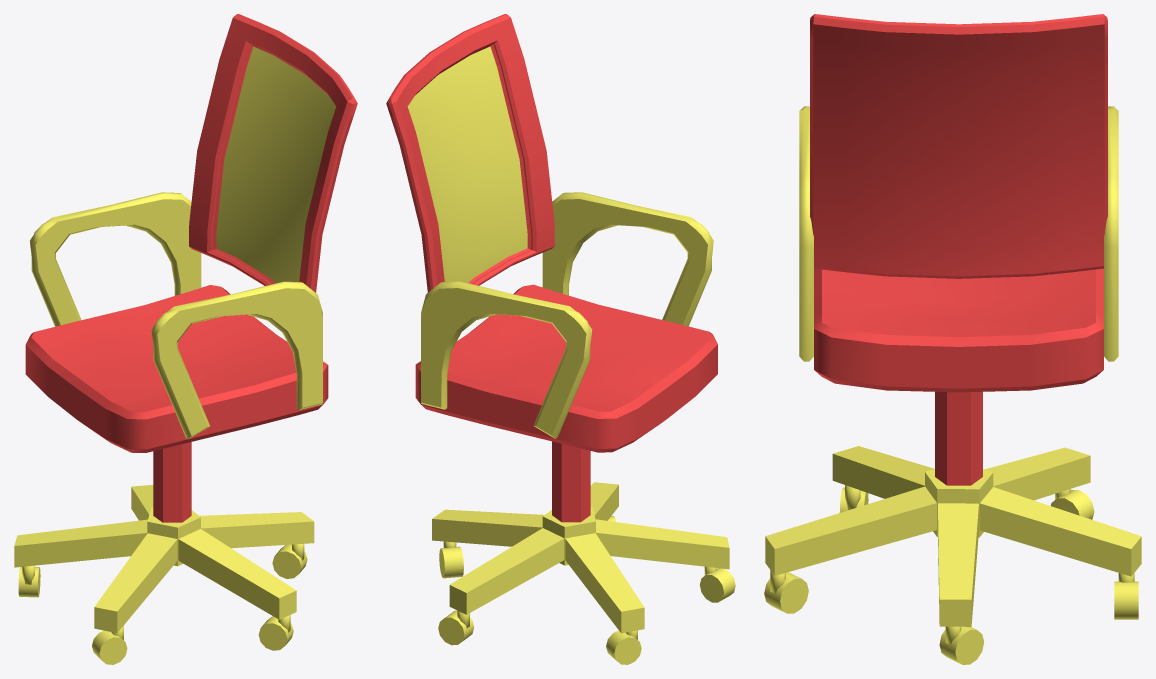
The model's file is SM_Chair.fbx.
3 renders of one model, left to right at view 1: azimuth 30°, elevation 25°; view 2: azimuth 150°, elevation 25°; view 3: azimuth 270°, elevation 25°, orthographic. The views are drawn at different scales.
Visible parts, largest first — view 1: SM_Chair; view 2: SM_Chair; view 3: SM_Chair.
Boxes of the visible parts, left/top/right/bottom form: SM_Chair: left=14, top=14, right=357, bottom=664; SM_Chair: left=386, top=14, right=735, bottom=664; SM_Chair: left=764, top=14, right=1141, bottom=664.
Bounding box in the file's own units: 62.17 × 117 × 61.84.
